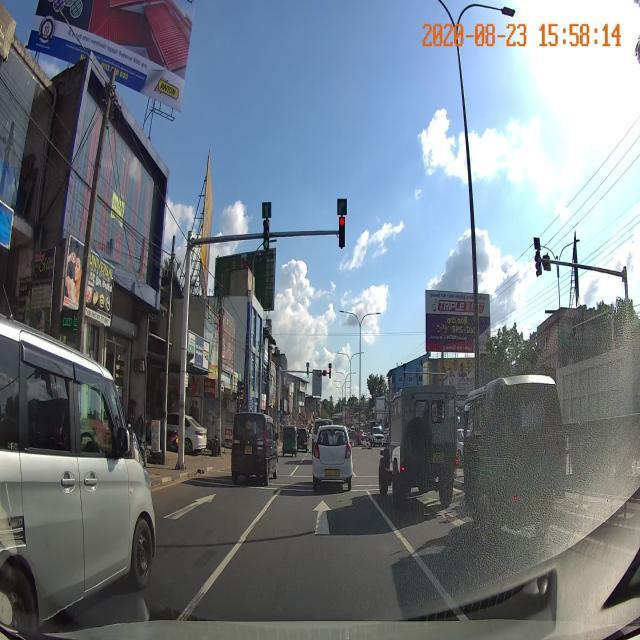forward: (240, 497, 404, 538)
